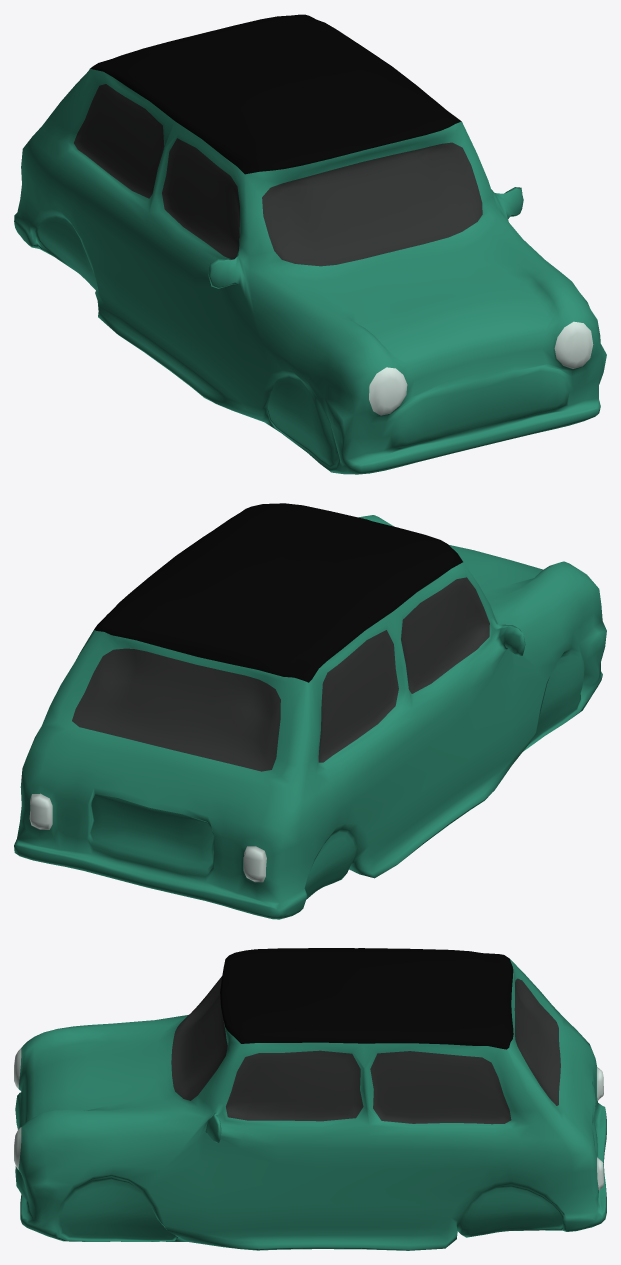
The model's file is mini_exp.fbx.
3 renders of one model, top to bottom at view 1: azimuth 30°, elevation 25°; view 2: azimuth 150°, elevation 25°; view 3: azimuth 270°, elevation 25°, orthographic. The views are drawn at different scales.
Parts seen in each view (by area): view 1: pCube3; view 2: pCube3; view 3: pCube3.
Boxes of the visible parts, x1,y1,x2,y2 form: pCube3: (14, 14, 606, 474); pCube3: (14, 503, 606, 919); pCube3: (14, 948, 606, 1250).
Bounding box in the file's own units: 0.2733 × 0.2085 × 0.5143.
